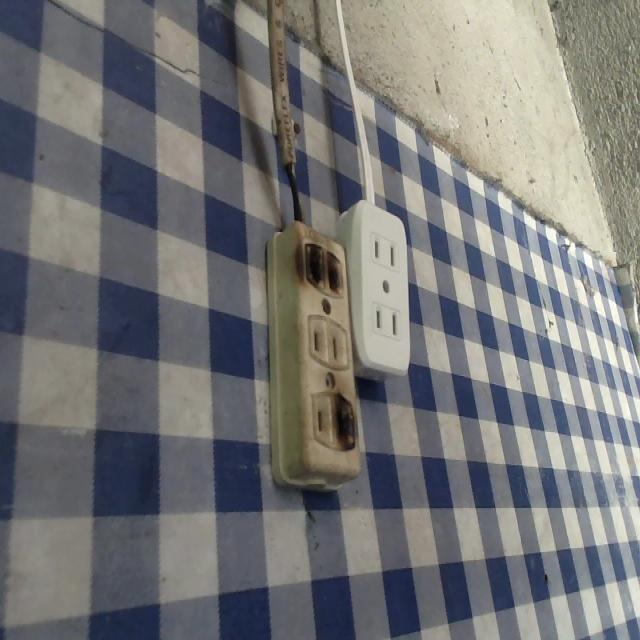-: (299, 238, 348, 298), (329, 392, 357, 452)
